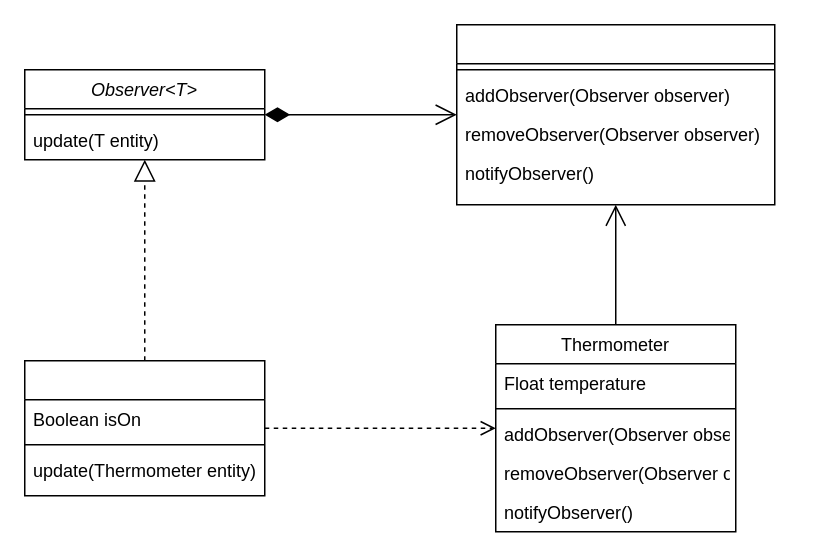
Image size: 824x557. Some labels were removed from this diagram. Here are the shapes that lost their labels. From the top down, the box of each, then its label:
(455, 23, 775, 205): Subject
(23, 359, 265, 496): AirConditioner
